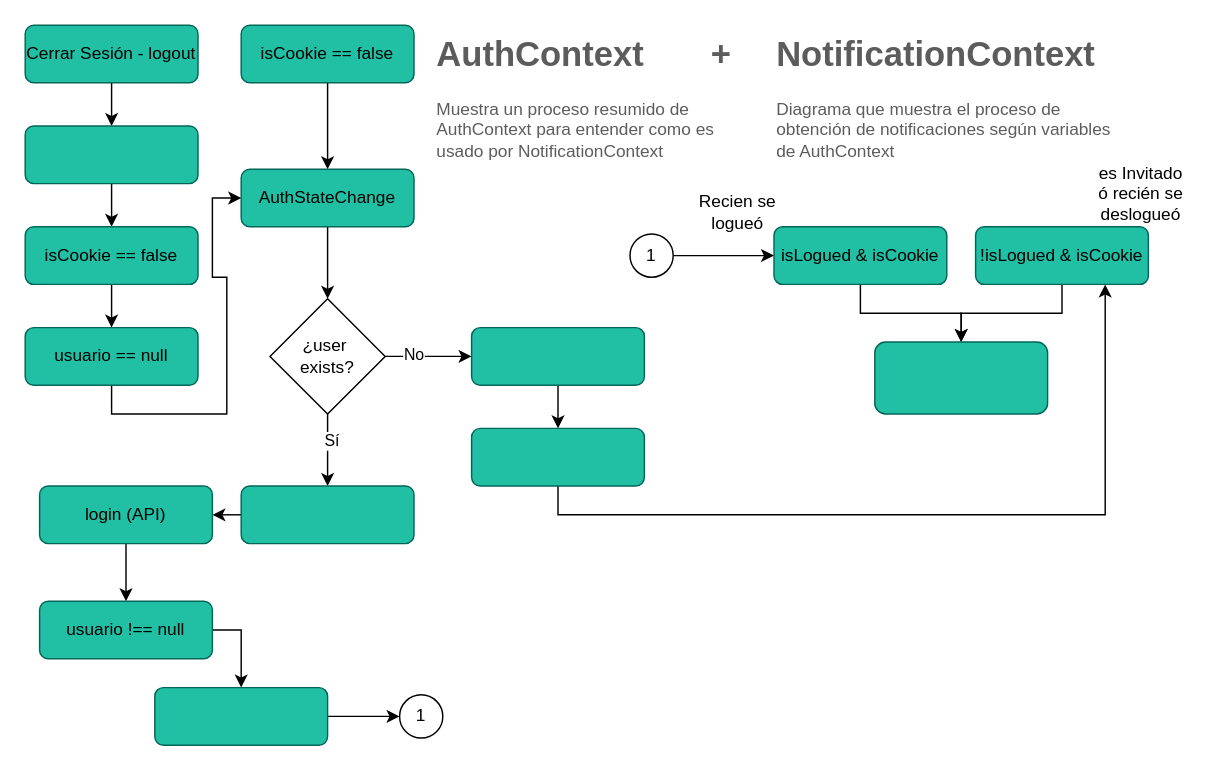
Some shapes in this 1217 by 770 pixel diagram are drawn without their labels. Each missing label, with the box of its shape:
handleGuestLogin: (470, 326, 644, 385)
isCookie == true: (240, 485, 414, 544)
isLogued == false: (24, 125, 198, 184)
isLogued == true: (153, 686, 328, 745)
obtengo las notificaciones iniciales: (873, 341, 1048, 414)
sync Guest Cookie isCookie == true: (470, 427, 644, 486)
